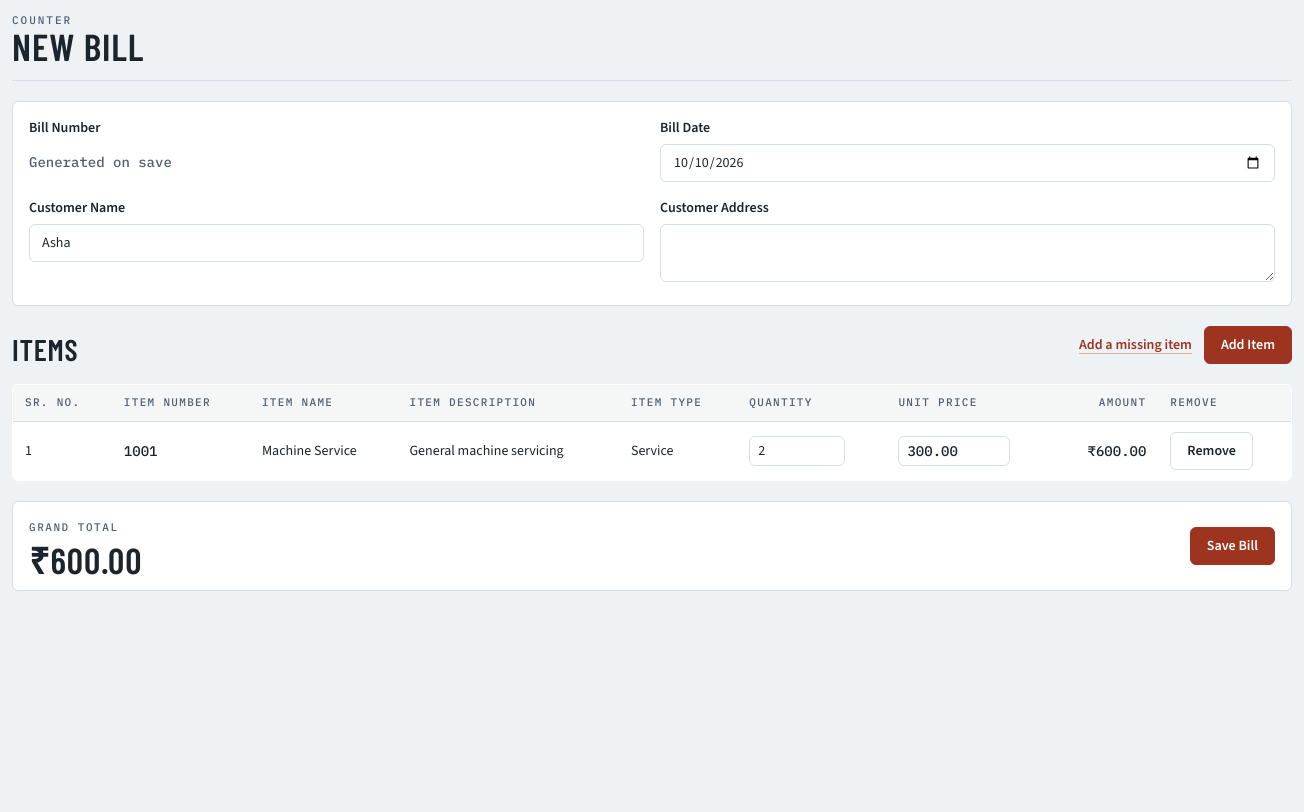
Test case: blocks saving while the quantity edit is 0
The width and height of the screenshot is (1304, 812).
Clear the number field named "Quantity for Machine Service" at x=797, y=451, box [749,436,845,466]
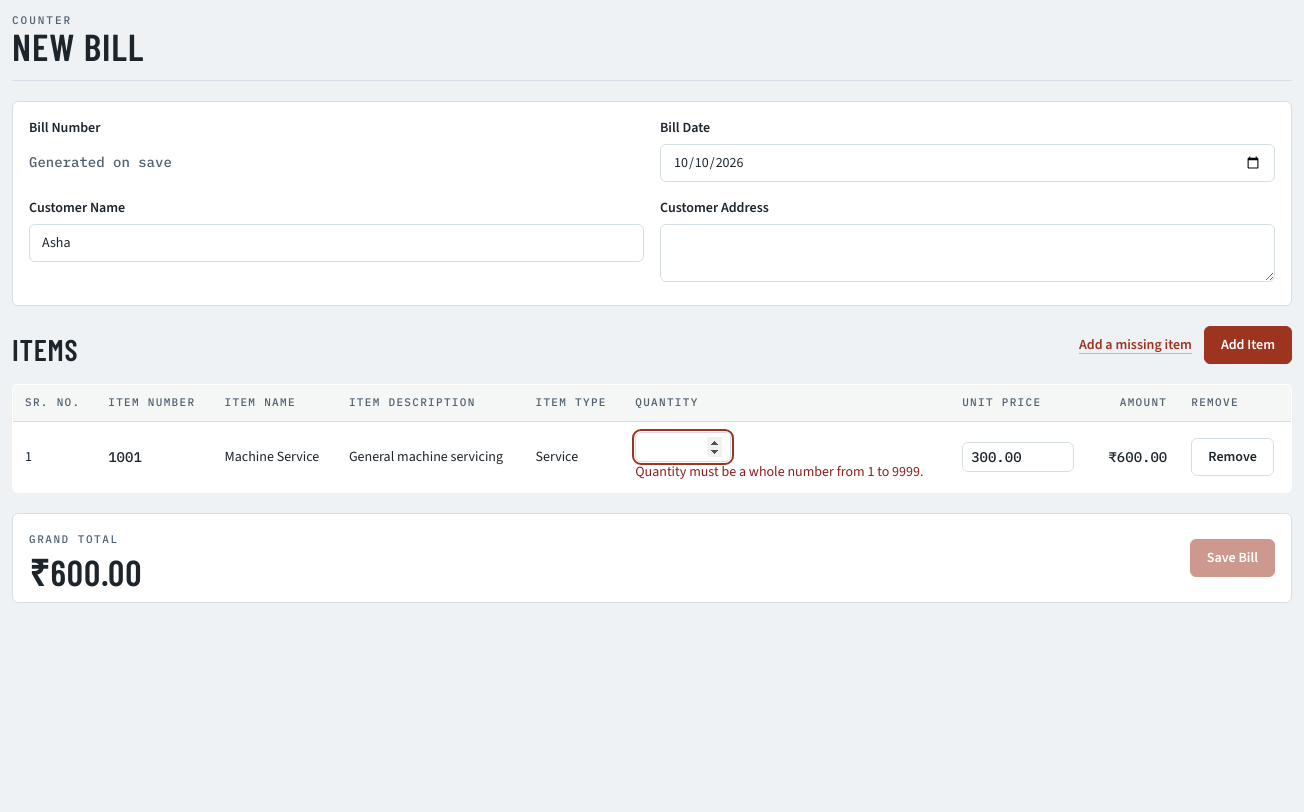
Type "0" into the number field named "Quantity for Machine Service".
click(683, 447); type("0")  # box [635,432,731,462]
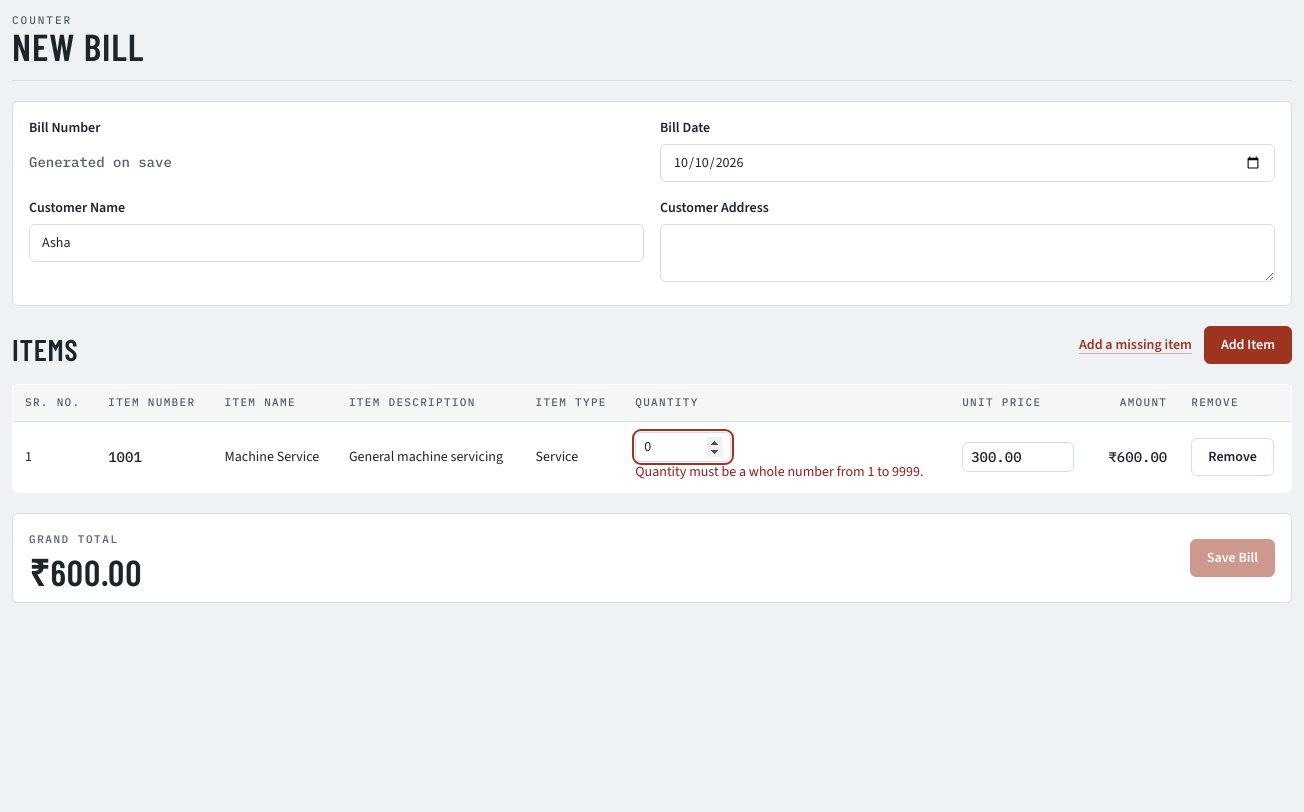
Expected: the message shows "Quantity must be a whole number", [635,462,924,481]
Expected: the button "Save Bill" is disabled, [1190,539,1275,577]
Press Tab
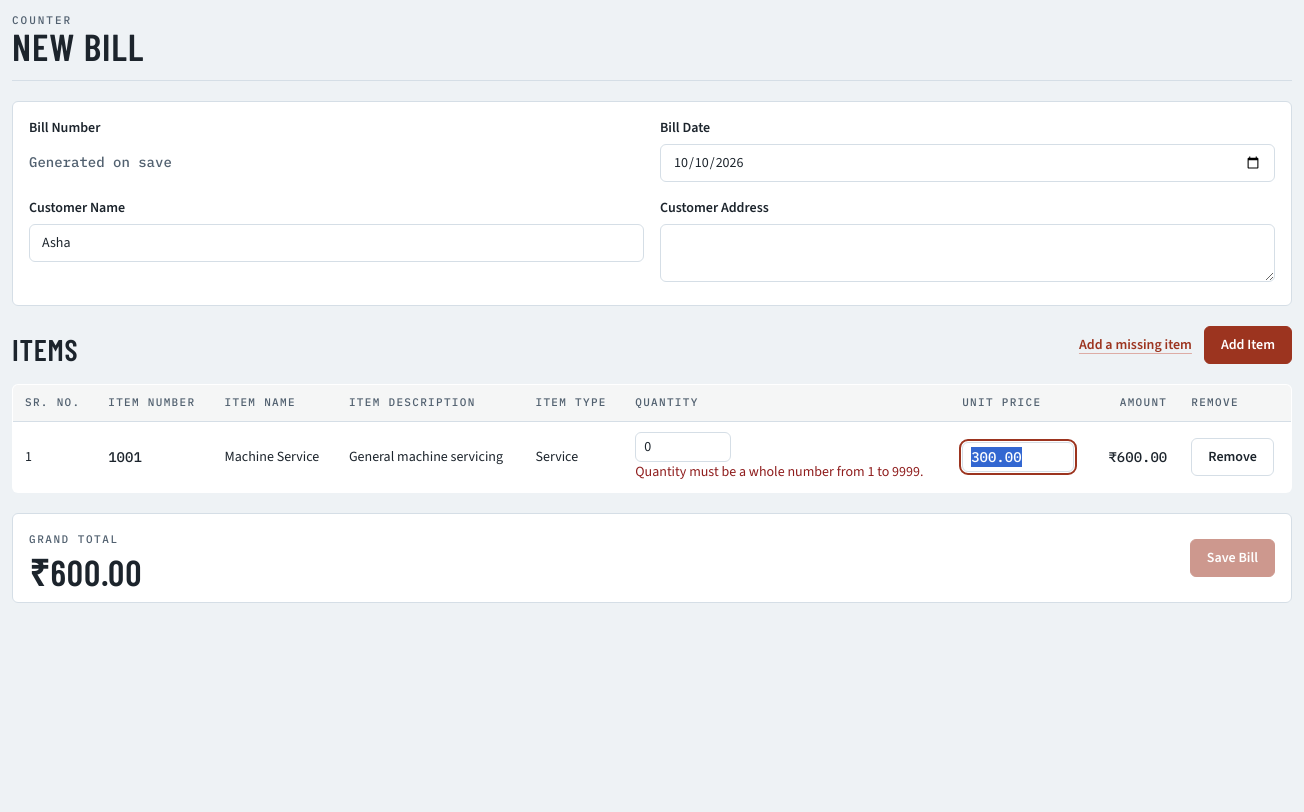
Expected: the button "Save Bill" is disabled, [1190,539,1275,577]
Replace the text in the number field named "Quantity for Machine Service" with "4" at x=683, y=447, box [635,432,731,462]
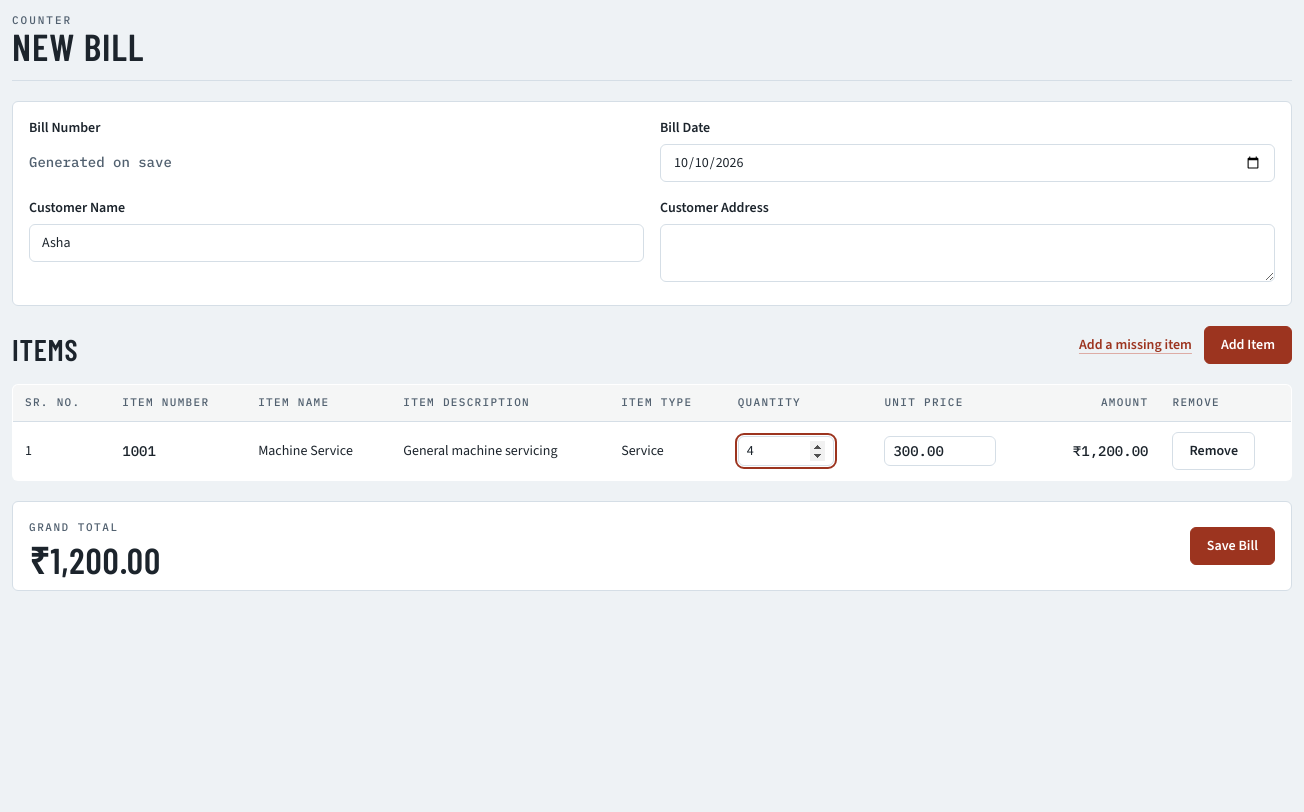
Expected: the message "Quantity must be a whole number from 1 to 9999." is gone
Expected: the button "Save Bill" is enabled, [1190,527,1275,565]
